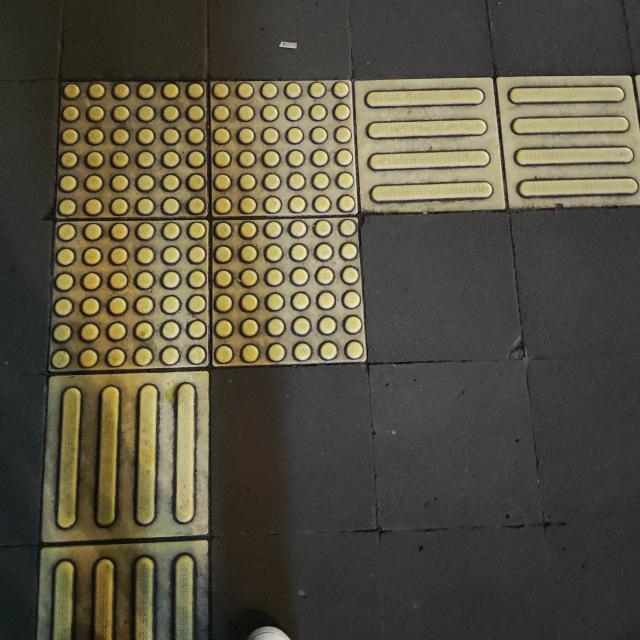kanan: (9, 36, 635, 458)
